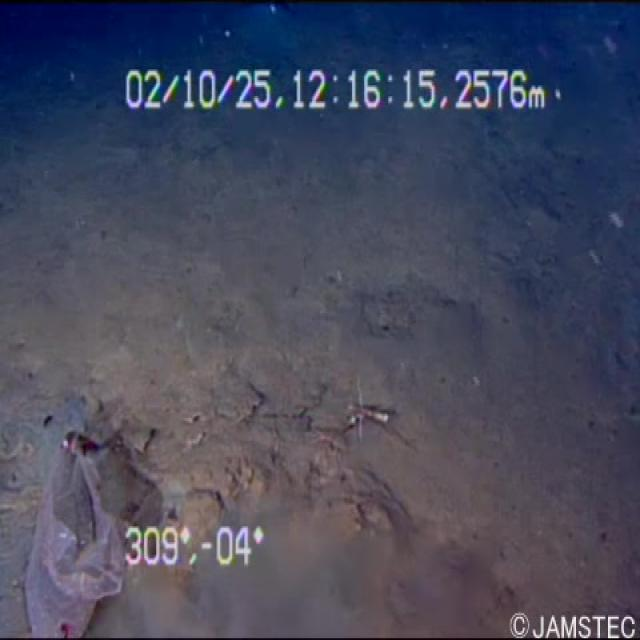plastic: (19, 412, 128, 638)
